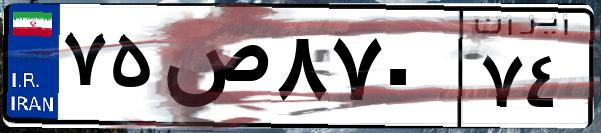0: (385, 28, 445, 110)
4: (525, 38, 570, 115)
5: (110, 28, 158, 98)
7: (330, 28, 385, 110), (57, 26, 110, 100), (475, 38, 525, 113)
8: (270, 28, 330, 110)
ص: (158, 20, 270, 120)
